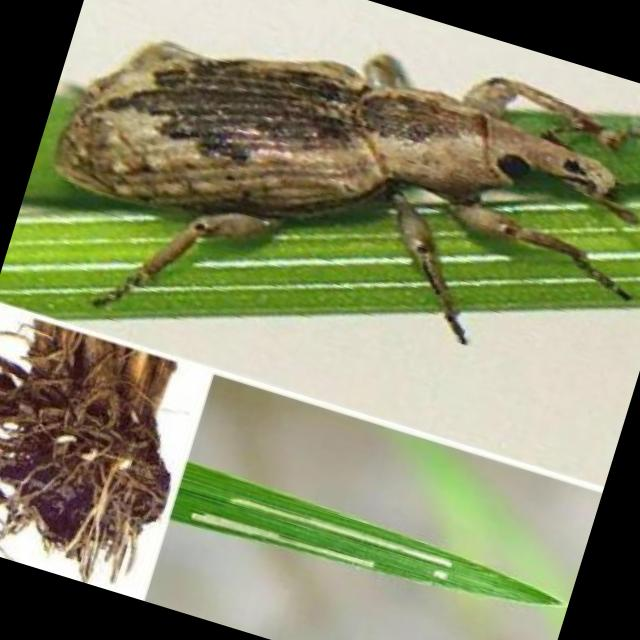rice-bug: (42, 0, 640, 354)
